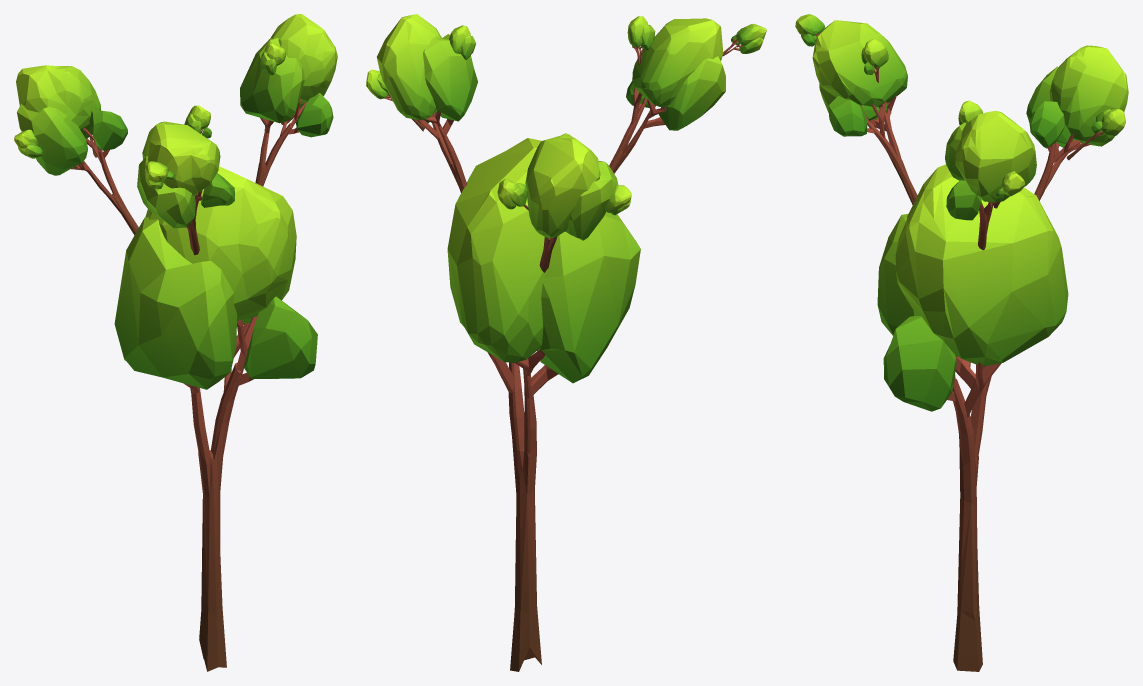
The model's file is samor_4077_133_FractalTowering.fbx.
3 renders of one model, left to right at view 1: azimuth 30°, elevation 25°; view 2: azimuth 150°, elevation 25°; view 3: azimuth 270°, elevation 25°, orthographic. The views are drawn at different scales.
Parts seen in each view (by area): view 1: samor_4077_133_FractalTowering; view 2: samor_4077_133_FractalTowering; view 3: samor_4077_133_FractalTowering.
Part boxes in pixels (x1,y1,x2,y2): samor_4077_133_FractalTowering: [14, 14, 337, 671]; samor_4077_133_FractalTowering: [366, 14, 766, 671]; samor_4077_133_FractalTowering: [795, 14, 1128, 671].
Size of the model in its own units: 12.34 by 25.83 by 12.94.
Materials: 1 (1 with a texture image).
